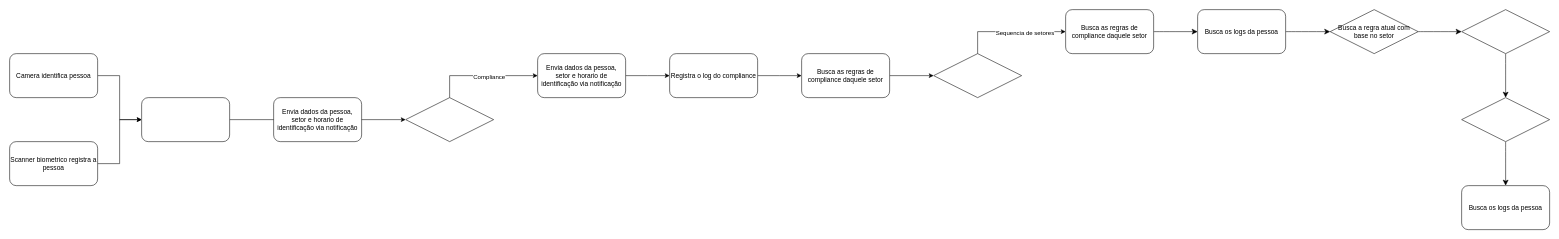
Image size: 1559x239. Some labels were removed from this diagram. Each missing label, with the centre of its shape:
"Features" goes at (x=449, y=119).
"Identifica as features da camera" goes at (x=185, y=119).
"Regras de compliance" goes at (x=977, y=75).
"Verifica a próxima regra" goes at (x=1505, y=119).
"Verifica se o log daquela sessão já esta completo (entra e saida)" goes at (x=1505, y=31).
